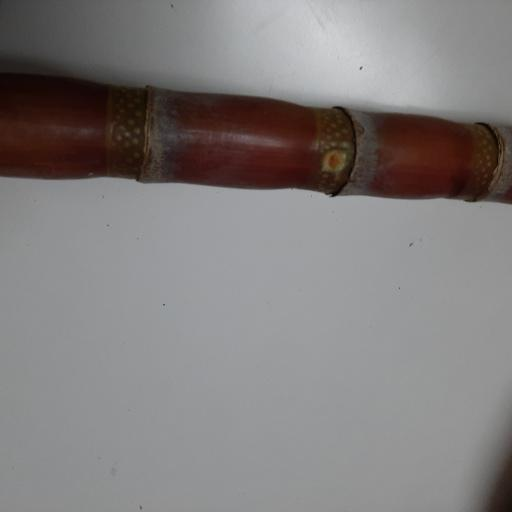Damage_Bud: (319, 148, 349, 176)
